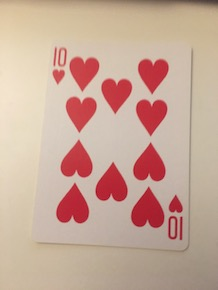TenOfHearts: (27, 31, 195, 254)
